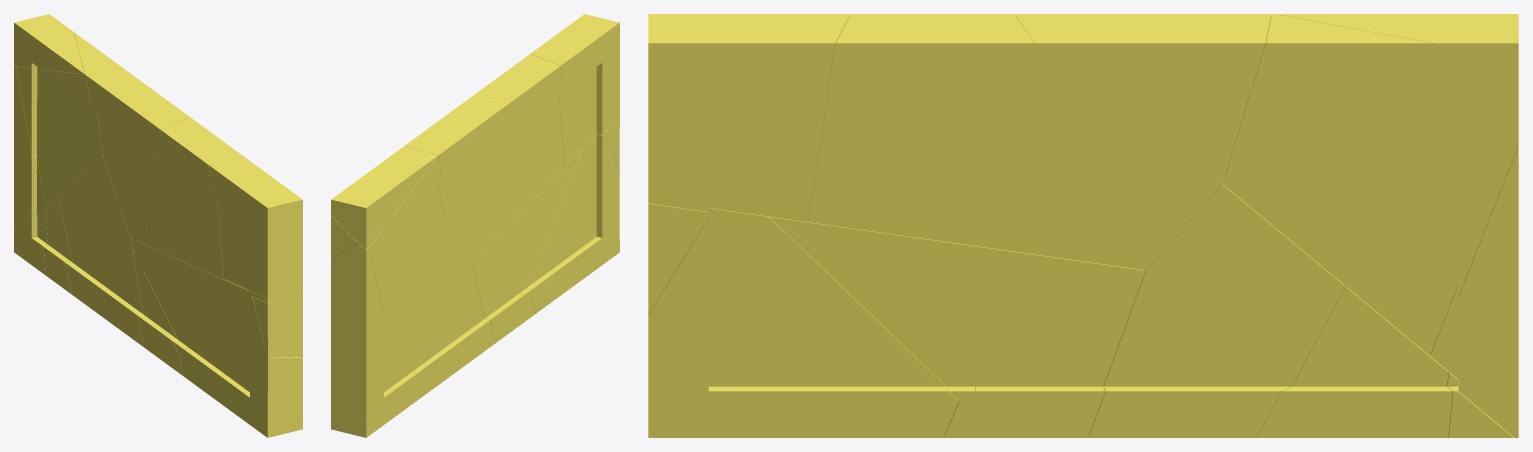
The model's file is wall_d.fbx.
3 views of the same model, side by side, from view 1: azimuth 30°, elevation 25°; view 2: azimuth 150°, elevation 25°; view 3: azimuth 270°, elevation 25° (orthographic). The views are drawn at different scales.
Visible parts, largest first — view 1: Wall_cell.003_cell.003, Wall_cell_cell.002, Wall_cell.001_cell, Wall_cell_cell.003, Wall_cell_cell.001, Wall_cell.002_cell.002, Wall_cell.003_cell.002, Wall_cell.002_cell, Wall_cell.002_cell.001, Wall_cell.003_cell, Wall_cell.003_cell.001, Wall_cell.001_cell.002 (+1 smaller); view 2: Wall_cell.001_cell, Wall_cell_cell.003, Wall_cell.003_cell.003, Wall_cell_cell.001, Wall_cell.002_cell.001, Wall_cell.002_cell.002, Wall_cell_cell.002, Wall_cell.003_cell.002, Wall_cell.002_cell, Wall_cell.003_cell.001, Wall_cell.001_cell.002, Wall_cell.001_cell.003 (+1 smaller); view 3: Wall_cell.002_cell.002, Wall_cell_cell.003, Wall_cell.003_cell.003, Wall_cell_cell.001, Wall_cell.001_cell, Wall_cell_cell.002, Wall_cell.003_cell.002, Wall_cell.001_cell.002, Wall_cell.003_cell.001, Wall_cell.002_cell.001, Wall_cell.002_cell, Wall_cell.003_cell (+1 smaller).
Part boxes in pixels (bbox=[...]): Wall_cell.003_cell.003: bbox=[179, 287, 302, 437]; Wall_cell_cell.002: bbox=[208, 159, 302, 300]; Wall_cell.001_cell: bbox=[58, 155, 143, 346]; Wall_cell_cell.003: bbox=[144, 117, 247, 279]; Wall_cell_cell.001: bbox=[86, 68, 189, 243]; Wall_cell.002_cell.002: bbox=[17, 32, 122, 206]; Wall_cell.003_cell.002: bbox=[131, 238, 240, 354]; Wall_cell.002_cell: bbox=[14, 14, 84, 74]; Wall_cell.002_cell.001: bbox=[14, 64, 45, 228]; Wall_cell.003_cell: bbox=[252, 293, 302, 357]; Wall_cell.003_cell.001: bbox=[132, 249, 183, 375]; Wall_cell.001_cell.002: bbox=[44, 196, 72, 294]; Wall_cell.001_cell: bbox=[399, 219, 495, 395]; Wall_cell_cell.003: bbox=[472, 54, 564, 246]; Wall_cell.003_cell.003: bbox=[530, 134, 619, 313]; Wall_cell_cell.001: bbox=[405, 96, 512, 260]; Wall_cell.002_cell.001: bbox=[331, 243, 386, 429]; Wall_cell.002_cell.002: bbox=[331, 146, 443, 353]; Wall_cell_cell.002: bbox=[530, 14, 619, 164]; Wall_cell.003_cell.002: bbox=[472, 150, 581, 298]; Wall_cell.002_cell: bbox=[331, 156, 436, 249]; Wall_cell.003_cell.001: bbox=[474, 269, 535, 343]; Wall_cell.001_cell.002: bbox=[387, 326, 423, 414]; Wall_cell.001_cell.003: bbox=[334, 355, 396, 437]; Wall_cell.002_cell.002: bbox=[1223, 14, 1518, 355]; Wall_cell_cell.003: bbox=[808, 14, 1105, 264]; Wall_cell.003_cell.003: bbox=[648, 208, 958, 437]; Wall_cell_cell.001: bbox=[1014, 14, 1271, 270]; Wall_cell.001_cell: bbox=[1088, 179, 1345, 437]; Wall_cell_cell.002: bbox=[648, 14, 850, 221]; Wall_cell.003_cell.002: bbox=[769, 216, 1145, 400]; Wall_cell.001_cell.002: bbox=[1257, 287, 1452, 437]; Wall_cell.003_cell.001: bbox=[943, 280, 1141, 437]; Wall_cell.002_cell.001: bbox=[1430, 145, 1518, 437]; Wall_cell.002_cell: bbox=[1276, 14, 1518, 69]; Wall_cell.003_cell: bbox=[648, 203, 709, 313].
Bounding box in the file's own units: 32.04 × 200 × 400.
